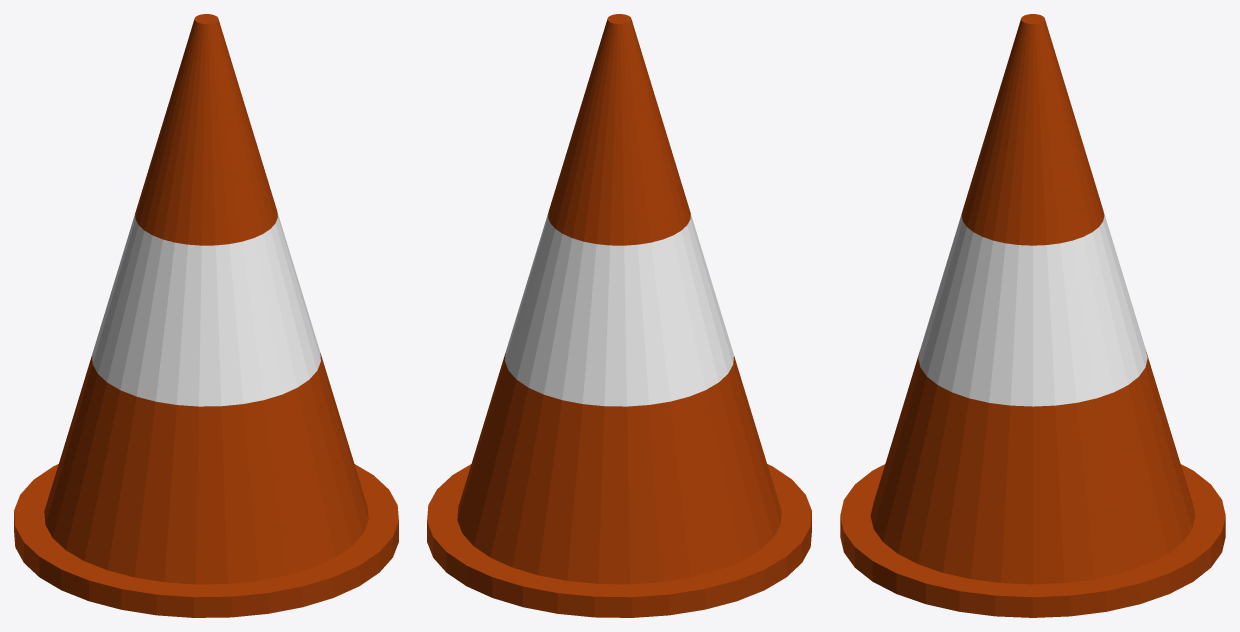
Rendered from OrangeCone.fbx.
The picture shows the model from 3 angles, left to right: view 1: azimuth 30°, elevation 25°; view 2: azimuth 150°, elevation 25°; view 3: azimuth 270°, elevation 25°; orthographic projection.
Parts seen in each view (by area): view 1: Cylinder orange; view 2: Cylinder orange; view 3: Cylinder orange.
Boxes of the visible parts, bbox=[...] form: Cylinder orange: bbox=[14, 14, 398, 617]; Cylinder orange: bbox=[427, 14, 811, 617]; Cylinder orange: bbox=[840, 14, 1225, 617].
Bounding box in the file's own units: 200 × 296 × 200.
